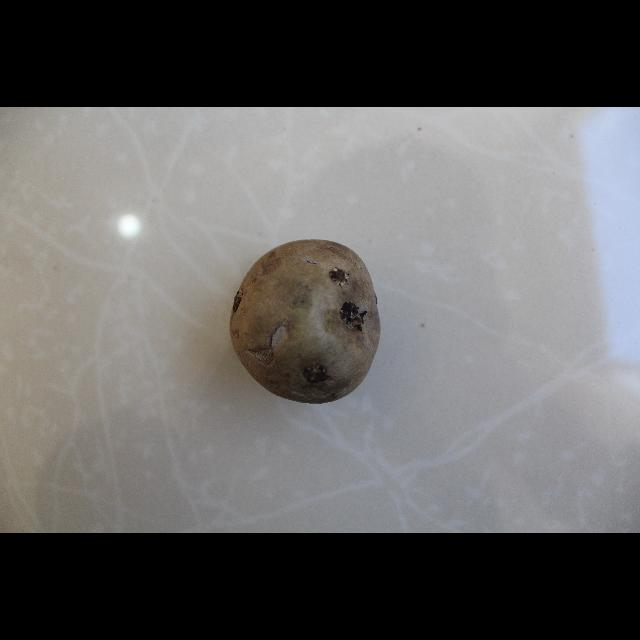Diseased-fungal potato: (256, 233, 414, 407)
